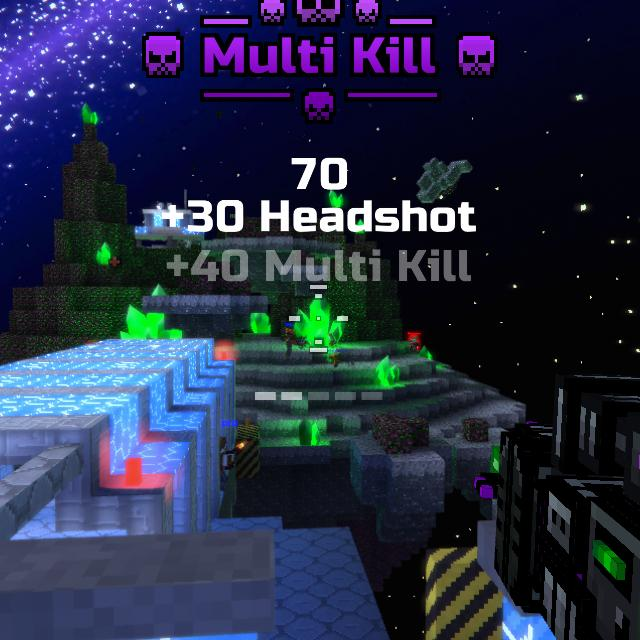Enemy: (409, 336, 420, 351)
